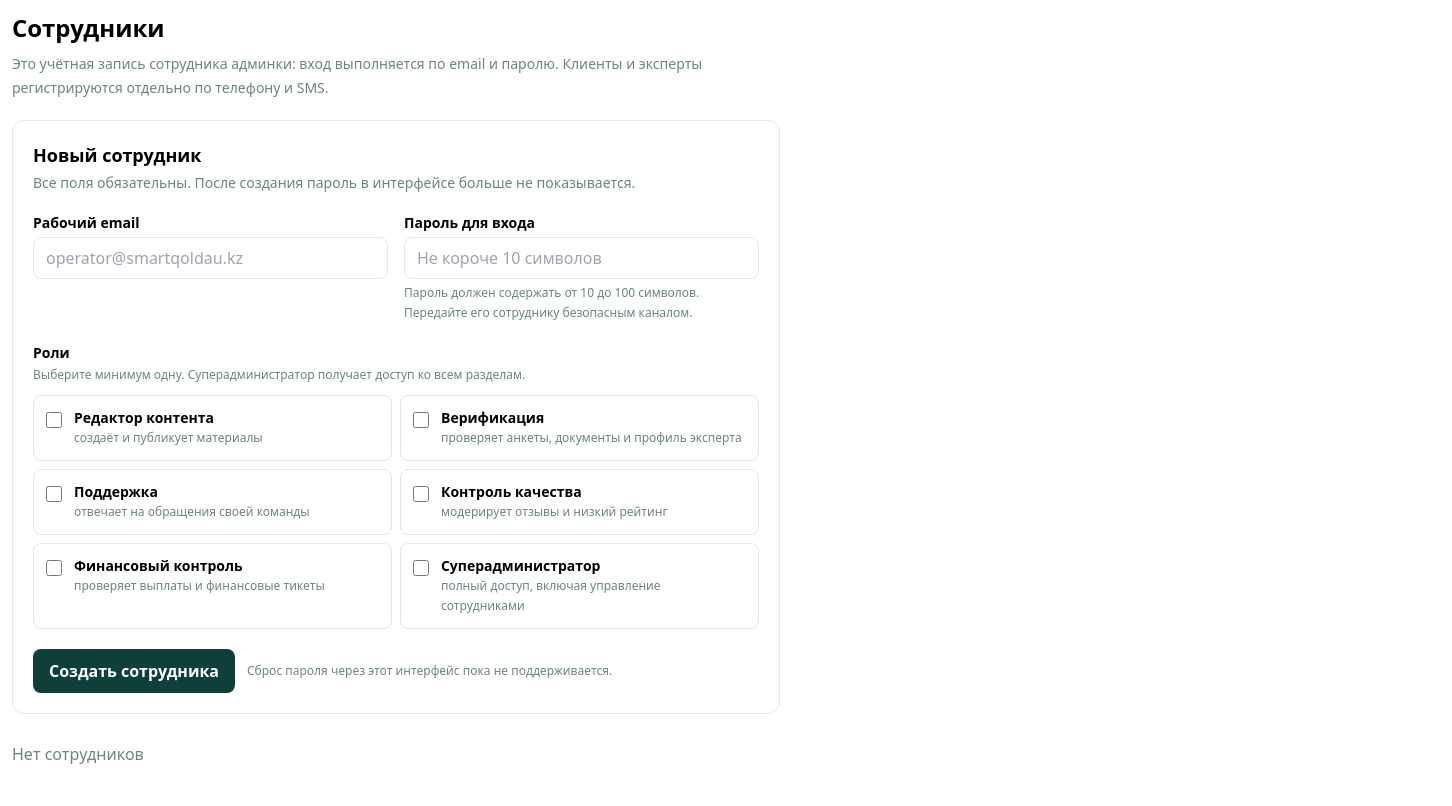
Test case: StaffPage › превращает 400 в инструкцию, как исправить данные
Expected: the text "Нет сотрудников" is shown, [12, 743, 144, 765]
Type "new@b.kz" into the field labelled "Рабочий email" at (210, 258), box [33, 237, 388, 279]
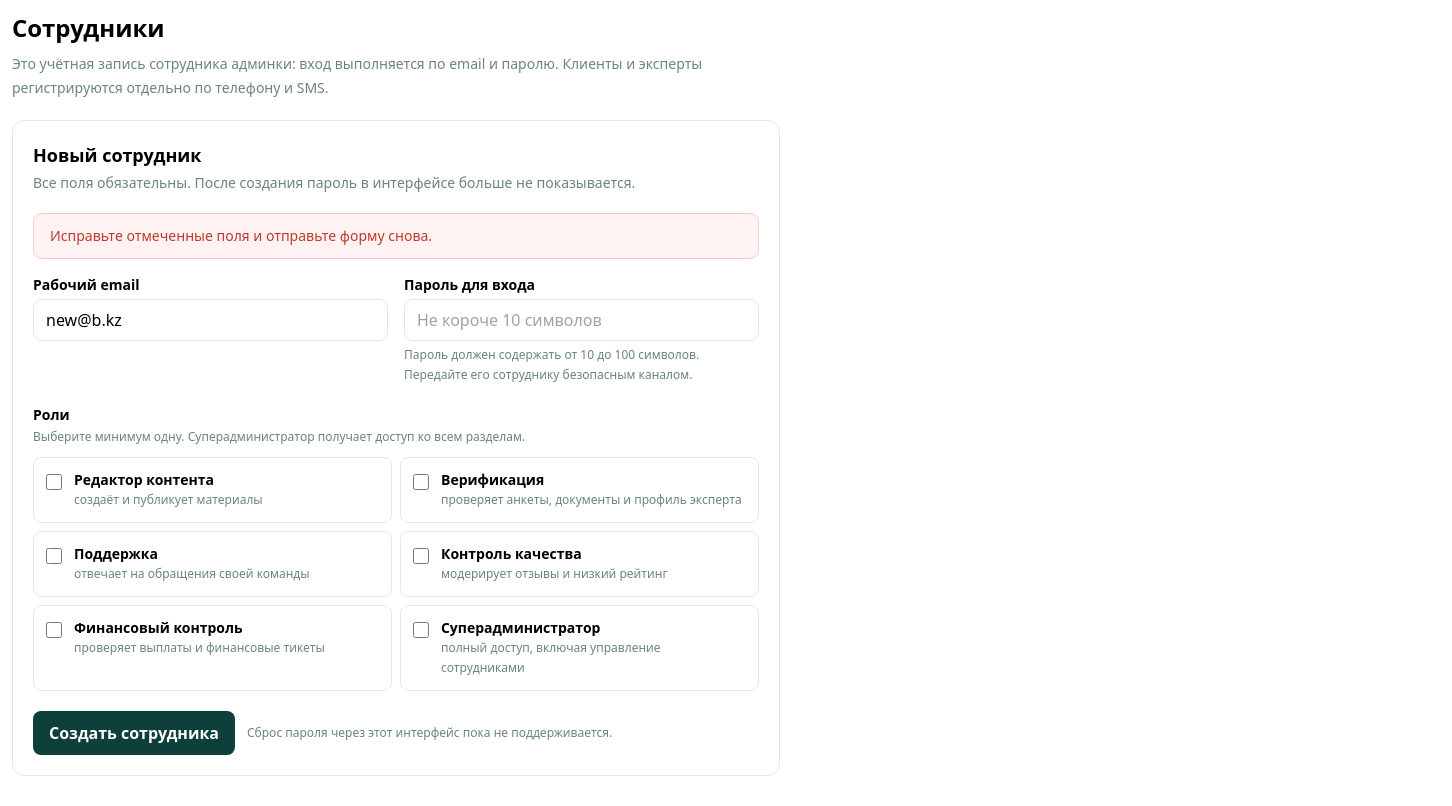
Type "0123456789" into the password field labelled "Пароль для входа" at (582, 320), box [404, 299, 759, 341]
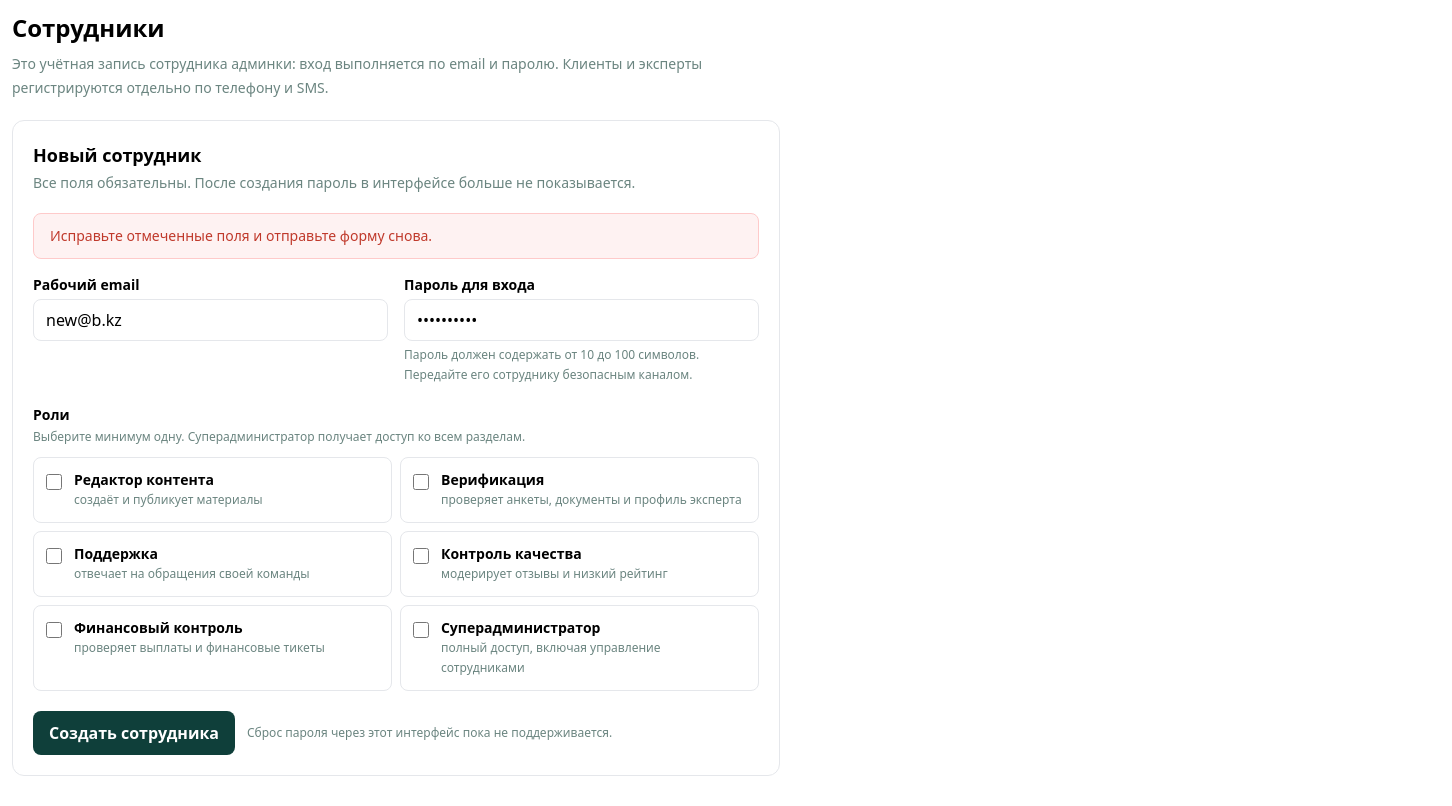
Click the checkbox labelled "Поддержка отвечает на обращения своей команды" at (54, 556), box [46, 548, 62, 564]
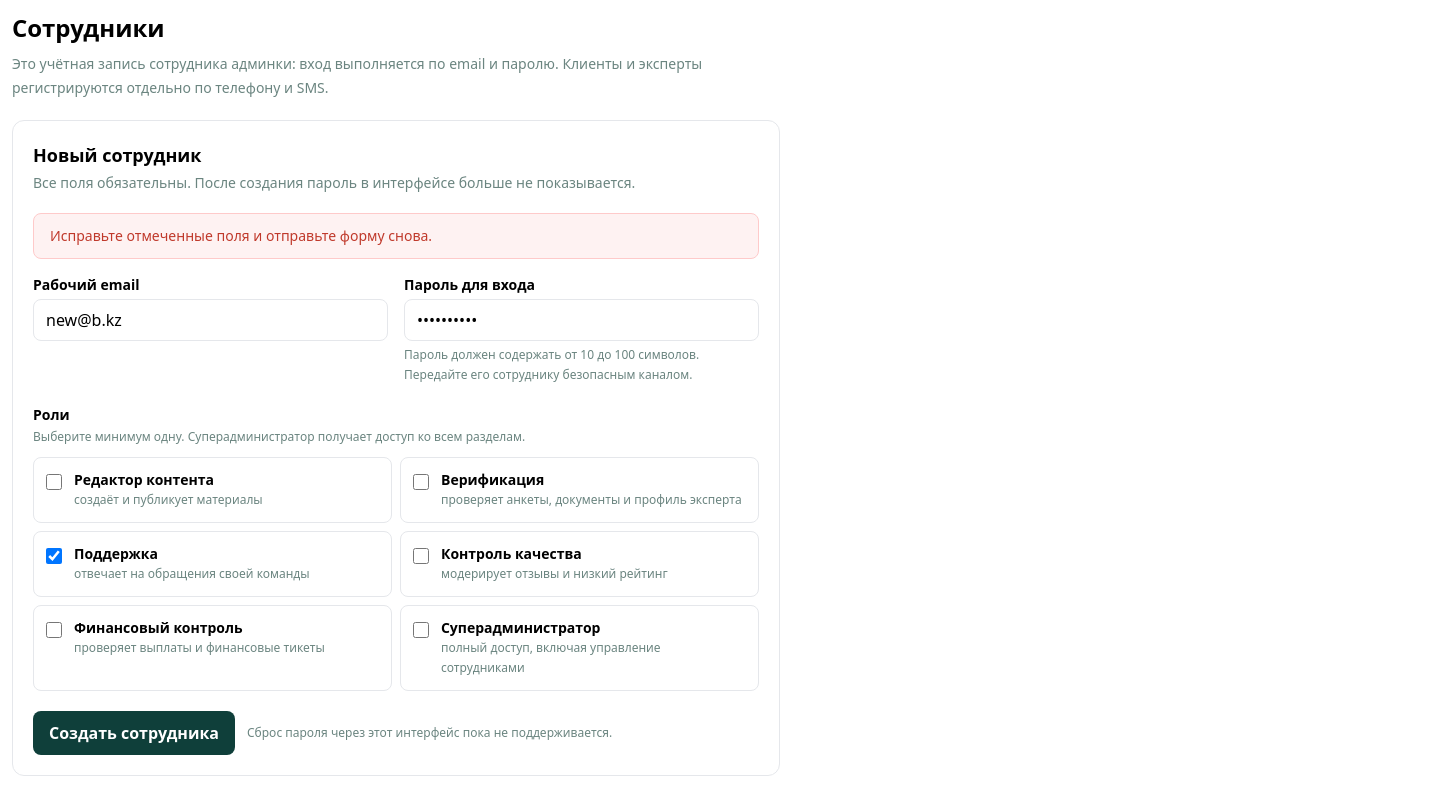
Click the button "Создать сотрудника" at (134, 733), box [33, 711, 235, 755]
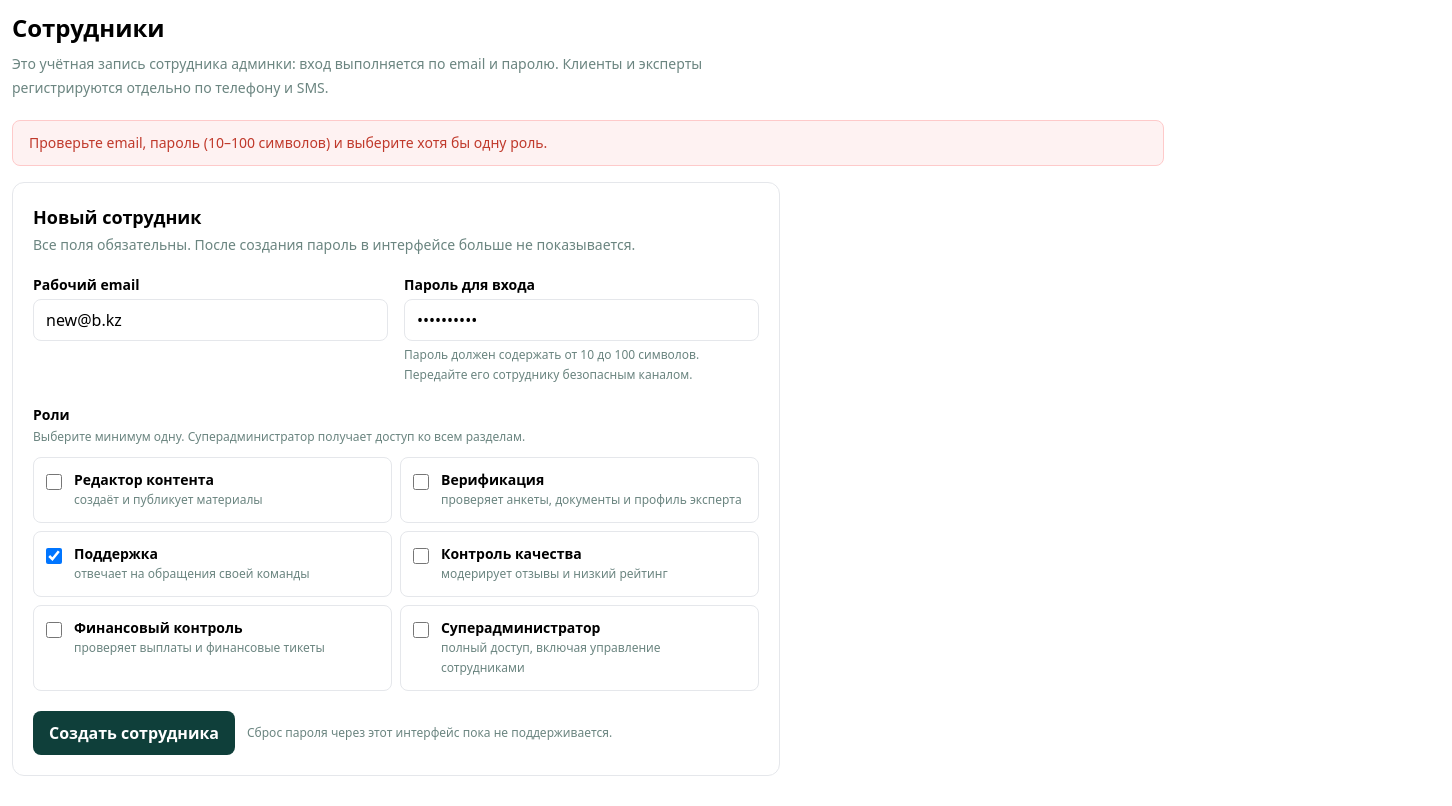
Expected: the text "Проверьте email, пароль (10–100 символов) и выберите хотя бы одну роль." is shown, [12, 120, 1164, 166]
